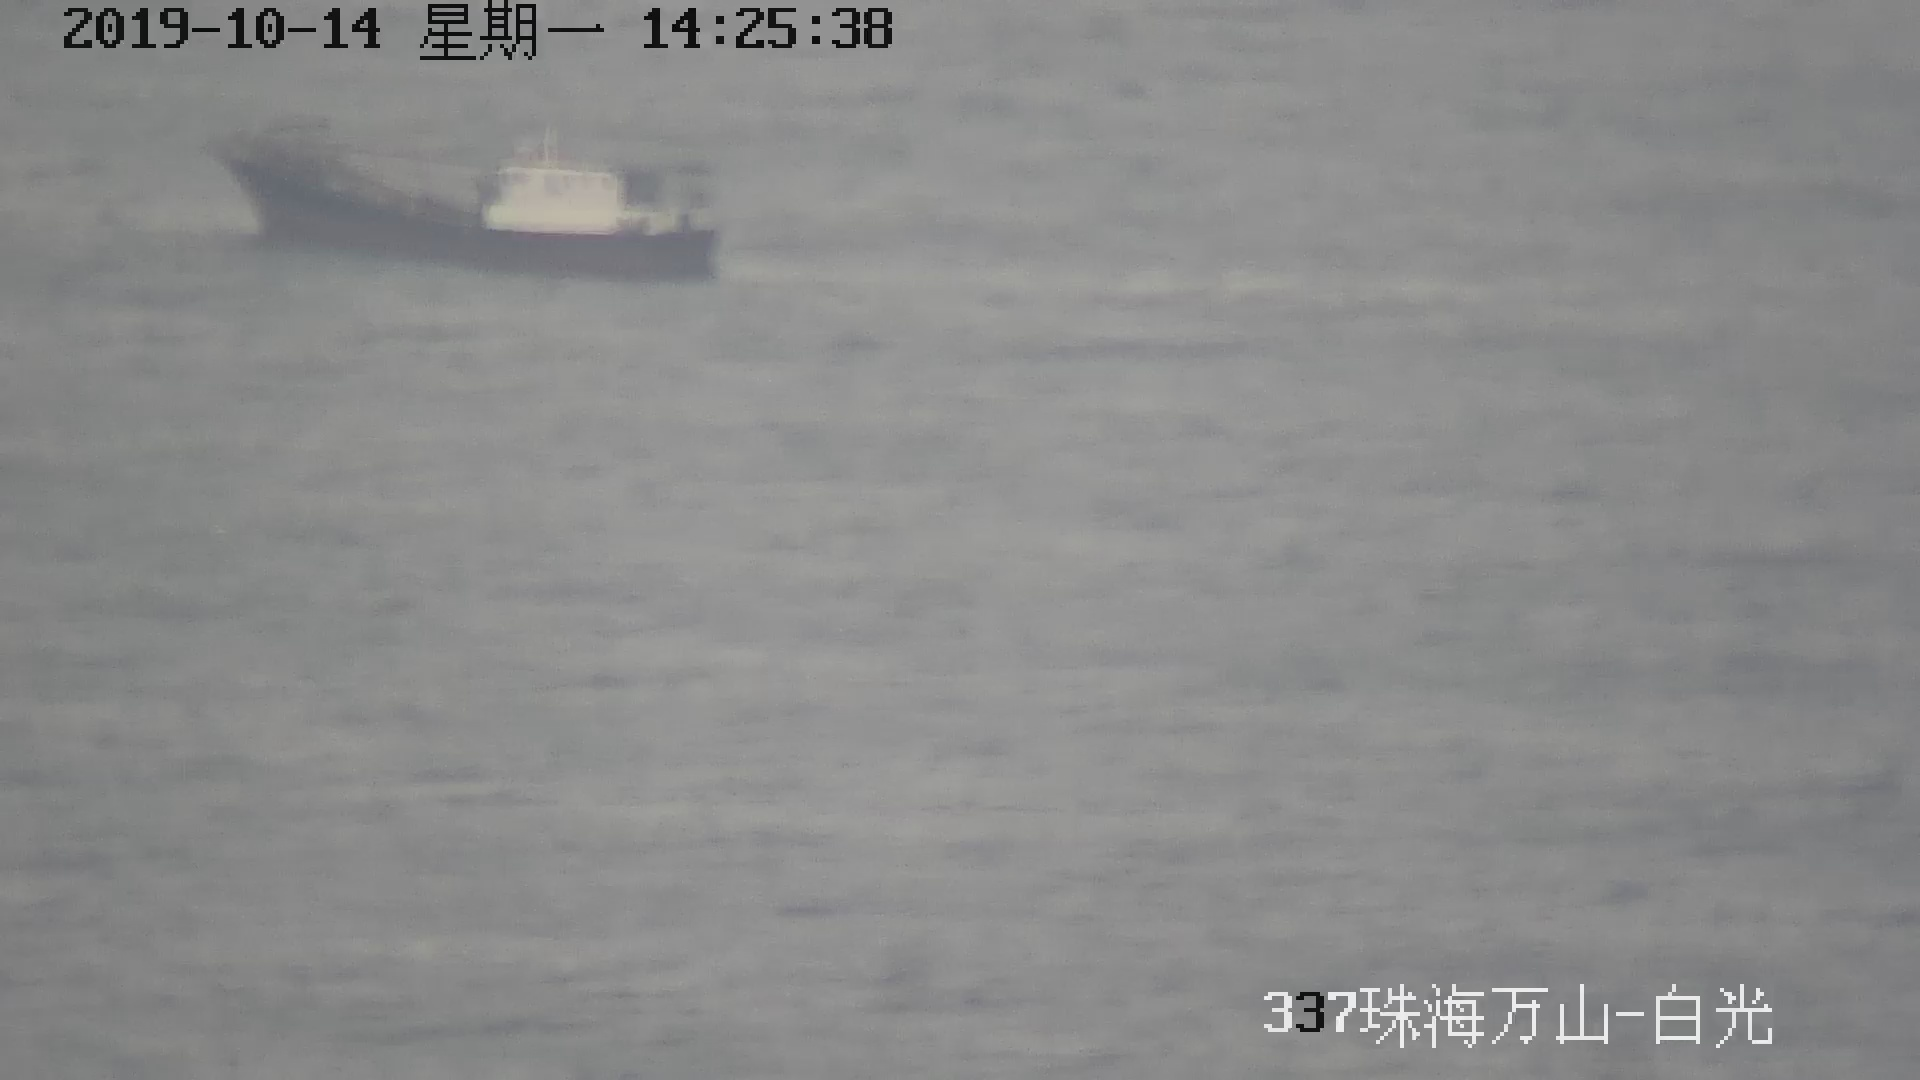ship: (200, 55, 715, 261)
